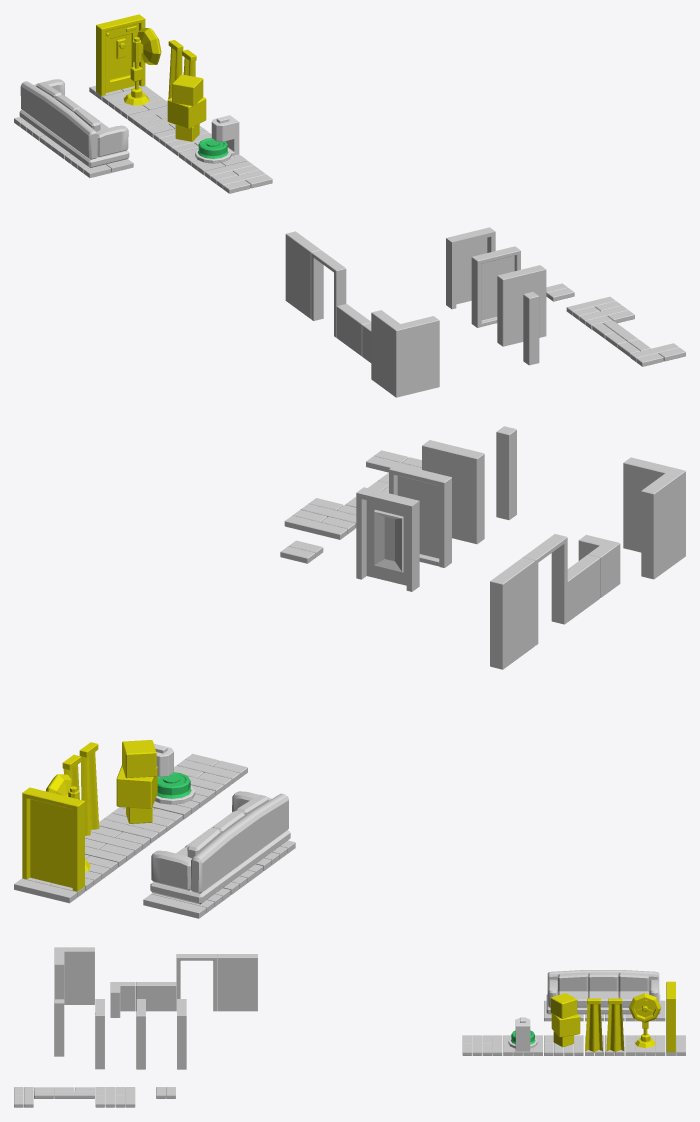
File: Master_Assets.glb
3 views of the same model, one above another, from view 1: azimuth 30°, elevation 25°; view 2: azimuth 150°, elevation 25°; view 3: azimuth 270°, elevation 25° (orthographic). The views are drawn at different scales.
Parts seen in each view (by area): view 1: obj_Couch, obj_WallLongCorner, obj_Smart_Door, obj_EdgeWall, obj_EdgeWindow, obj_NotSmartDoor, obj_Smart_Boxes, obj_MiddleWall, obj_MiddleFrame, obj_Smart_Fan, obj_Floor.006, obj_Floor.007 (+10 smaller); view 2: obj_Couch, obj_WallLongCorner, obj_NotSmartDoor, obj_Smart_Door, obj_MiddleWall, obj_EdgeWall, obj_EdgeWindow, obj_Smart_Boxes, obj_MiddleFrame, obj_Floor.007, obj_Wallcorner.002, obj_Floor.006 (+11 smaller); view 3: obj_Couch, obj_MiddleWall, obj_WallLongCorner, obj_Smart_Boxes, obj_HalfMiddleWall, obj_Smart_Fan, obj_Floor.006, obj_Floor.007, obj_Smart_Curtain_Left, obj_Smart_Curtain_Right, obj_MiddleWallCorner, obj_MiddleFrame (+12 smaller).
Boxes of the visible parts, x1,y1,x2,y2 form: obj_Couch: (19, 79, 129, 167); obj_WallLongCorner: (371, 310, 439, 397); obj_Smart_Door: (96, 14, 145, 95); obj_EdgeWall: (497, 265, 546, 346); obj_EdgeWindow: (471, 246, 520, 327); obj_NotSmartDoor: (446, 227, 495, 309); obj_Smart_Boxes: (167, 74, 206, 141); obj_MiddleWall: (285, 231, 320, 318); obj_MiddleFrame: (311, 250, 346, 337); obj_Smart_Fan: (123, 28, 161, 105); obj_Floor.006: (204, 161, 272, 193); obj_Floor.007: (566, 296, 634, 329); obj_Couch: (150, 791, 290, 904); obj_WallLongCorner: (623, 457, 685, 579); obj_NotSmartDoor: (356, 487, 419, 591); obj_Smart_Door: (22, 787, 84, 891); obj_MiddleWall: (490, 557, 534, 669); obj_EdgeWall: (422, 440, 484, 544); obj_EdgeWindow: (389, 463, 451, 567); obj_Smart_Boxes: (116, 740, 157, 823); obj_MiddleFrame: (523, 534, 567, 645); obj_Floor.007: (284, 498, 356, 539); obj_Wallcorner.002: (496, 426, 516, 519); obj_Floor.006: (174, 753, 247, 795); obj_Couch: (546, 970, 660, 1014); obj_MiddleWall: (217, 954, 257, 1011); obj_WallLongCorner: (54, 947, 94, 1004); obj_Smart_Boxes: (550, 993, 580, 1047); obj_HalfMiddleWall: (136, 982, 176, 1011); obj_Smart_Fan: (629, 993, 661, 1047); obj_Floor.006: (462, 1035, 502, 1055); obj_Floor.007: (95, 1087, 135, 1107); obj_Smart_Curtain_Left: (606, 998, 624, 1052); obj_Smart_Curtain_Right: (585, 998, 602, 1052); obj_MiddleWallCorner: (110, 982, 135, 1017); obj_MiddleFrame: (176, 954, 217, 1011).
Bounding box in the file's own units: 5.99 × 1.6 × 16.48.
